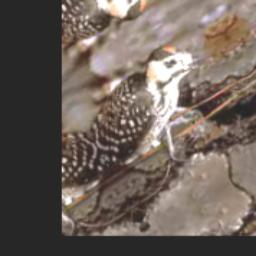Woodpecker: (74, 20, 252, 191)
